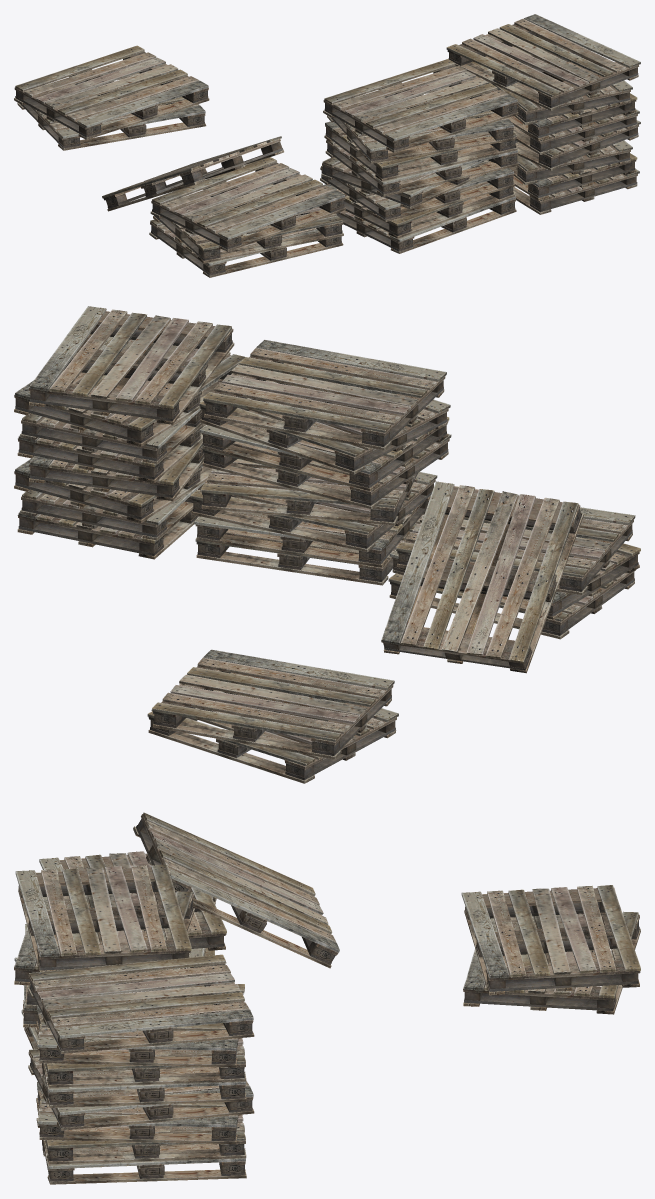
Rendered from palletes.glb.
The picture shows the model from 3 angles, top to bottom: view 1: azimuth 30°, elevation 25°; view 2: azimuth 150°, elevation 25°; view 3: azimuth 270°, elevation 25°; orthographic projection. The views are drawn at different scales.
Visible parts, largest first — view 1: pallete_combo_d_LOD0_0_Material #27_0; view 2: pallete_combo_d_LOD0_0_Material #27_0; view 3: pallete_combo_d_LOD0_0_Material #27_0.
Boxes of the visible parts, <box> form: pallete_combo_d_LOD0_0_Material #27_0: <box>14,14,640,277</box>; pallete_combo_d_LOD0_0_Material #27_0: <box>14,306,640,783</box>; pallete_combo_d_LOD0_0_Material #27_0: <box>14,812,640,1184</box>.
Bounding box in the file's own units: 0.1239 × 0.0321 × 0.1193.
Materials: 1 (1 with a texture image).
